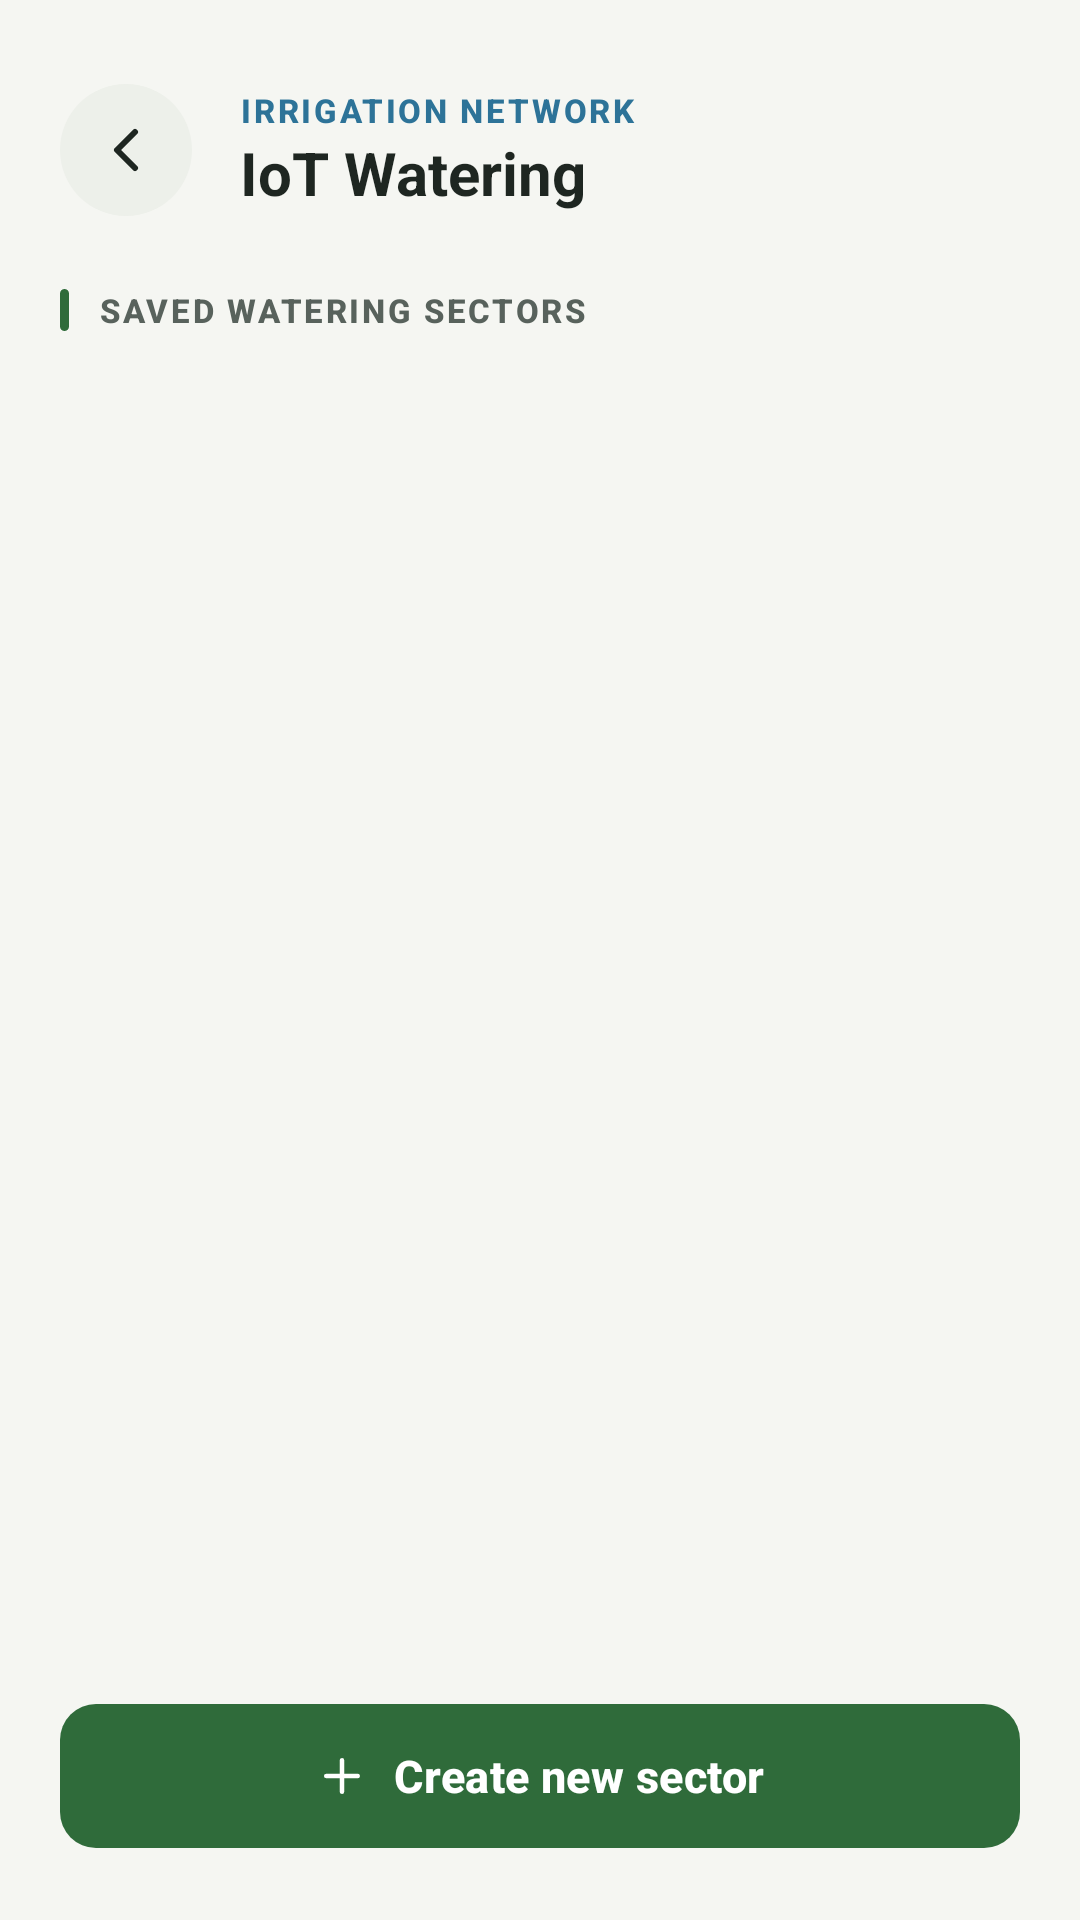

Icon click points for this 1080×1920 phone screenshot, format [x,y]:
Back: [126,150]
